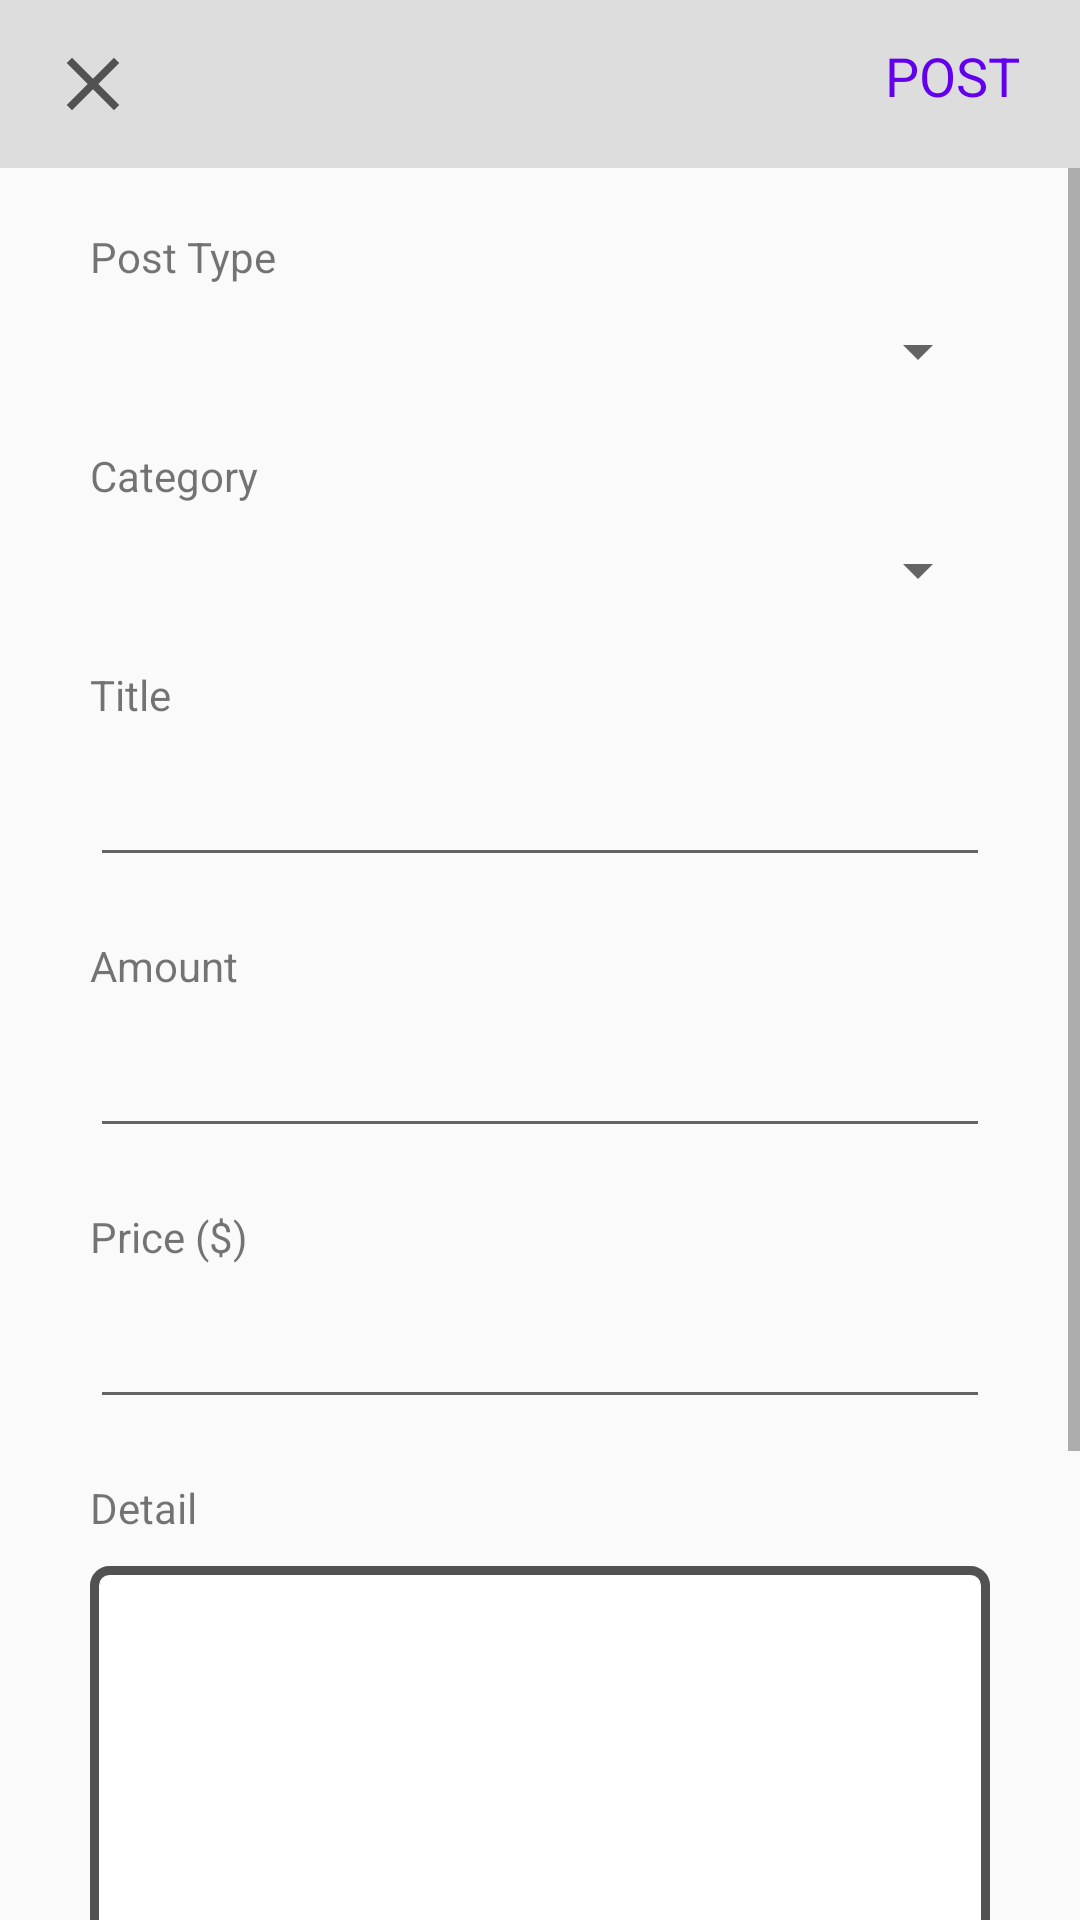

Icon bounding boxes for this 1080*1920 phone screenshot, format (x1, y1, x2, y2):
close: (67, 58, 119, 110)
